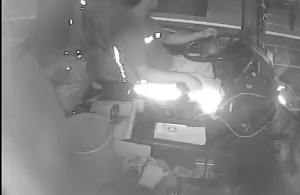paper: (152, 121, 209, 147)
